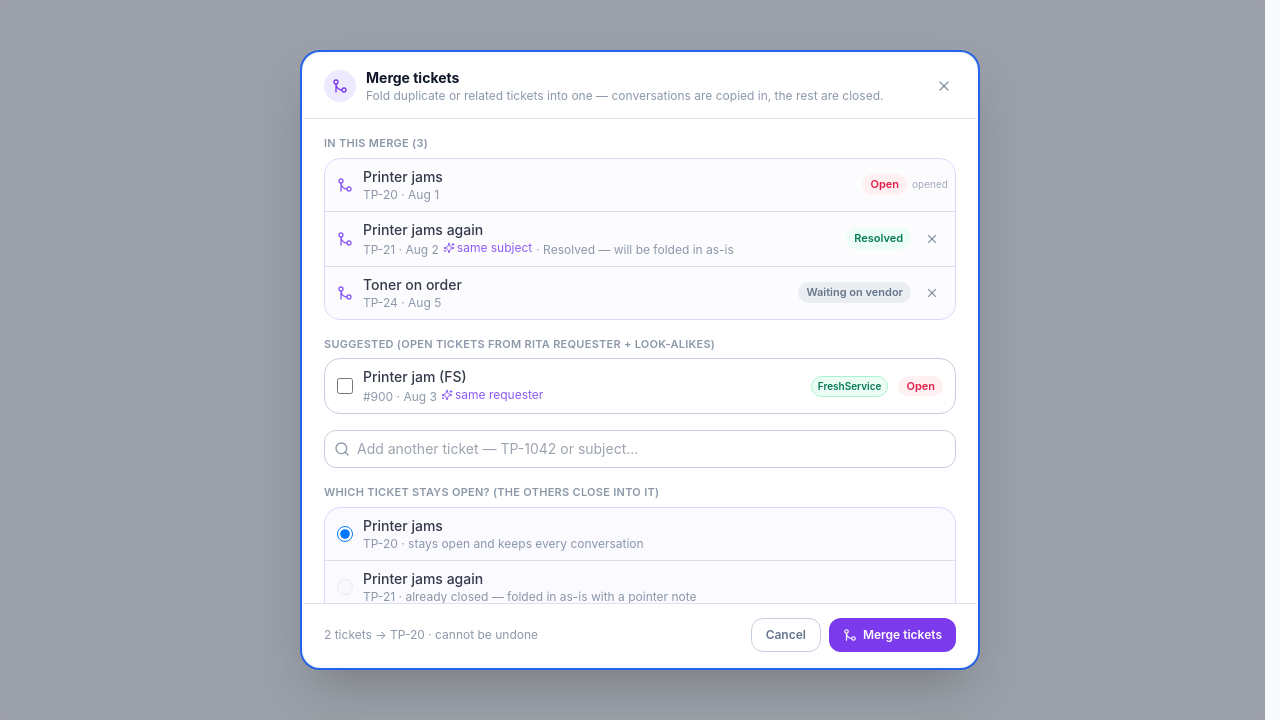
Test: MergeTicketsModal — opened from the bulk bar (QA 09-21 #2) › both pre-selected tickets sit in "In this merge"; removing one puts it back under Suggested
Click the button named "Remove TP-24 from the merge" at (932, 292), box [921,282,943,304]
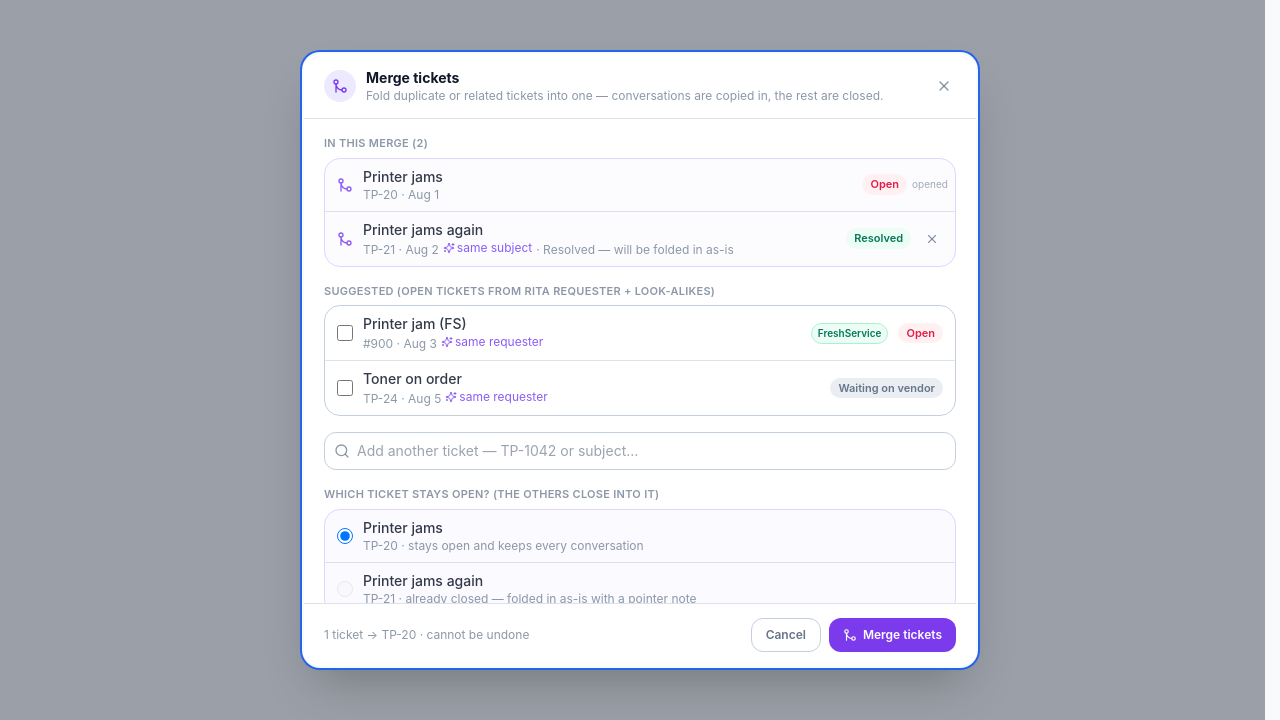
Expected: the text "Which ticket stays open? (the others close into it)" is shown, [324,487,659,501]
Result: the checkbox named "Include TP-24 in the merge" is shown at [337,380,353,396]
